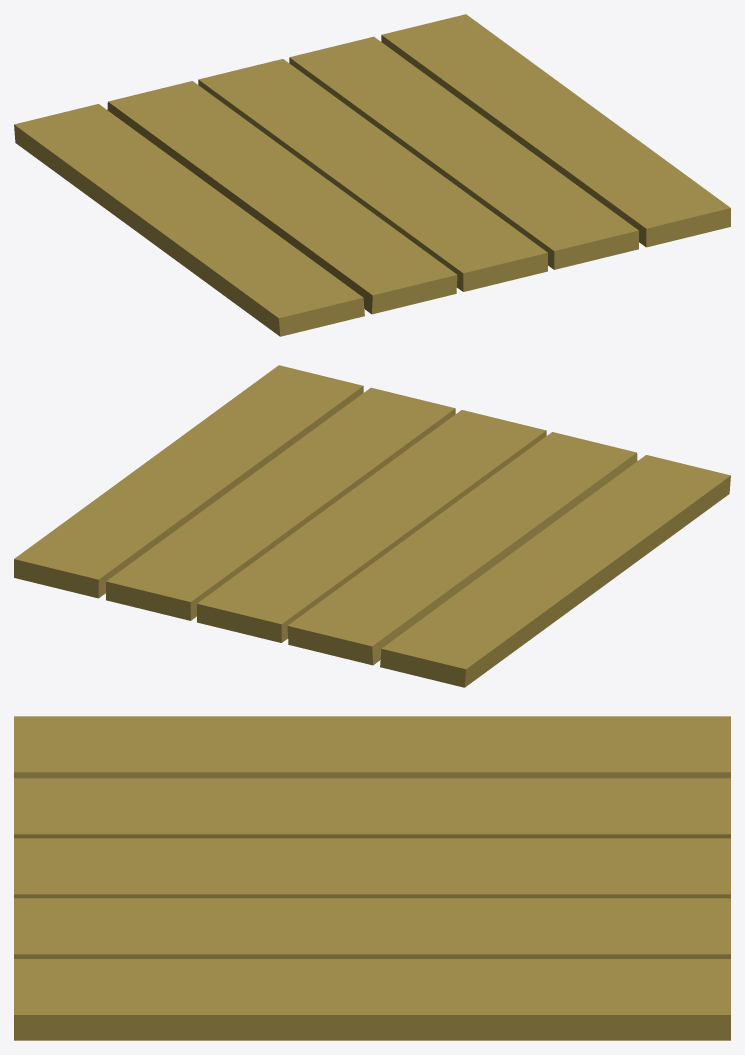
Rendered from PlankPlatform.fbx.
3 renders of one model, top to bottom at view 1: azimuth 30°, elevation 25°; view 2: azimuth 150°, elevation 25°; view 3: azimuth 270°, elevation 25°, orthographic. The views are drawn at different scales.
Parts seen in each view (by area): view 1: Plank_Platform; view 2: Plank_Platform; view 3: Plank_Platform.
Boxes of the visible parts, box(x1,y1,x2,y2) form: Plank_Platform: box(14, 14, 730, 336); Plank_Platform: box(14, 365, 730, 687); Plank_Platform: box(14, 716, 730, 1040).
Bounding box in the file's own units: 1.97 × 0.0784 × 2.
